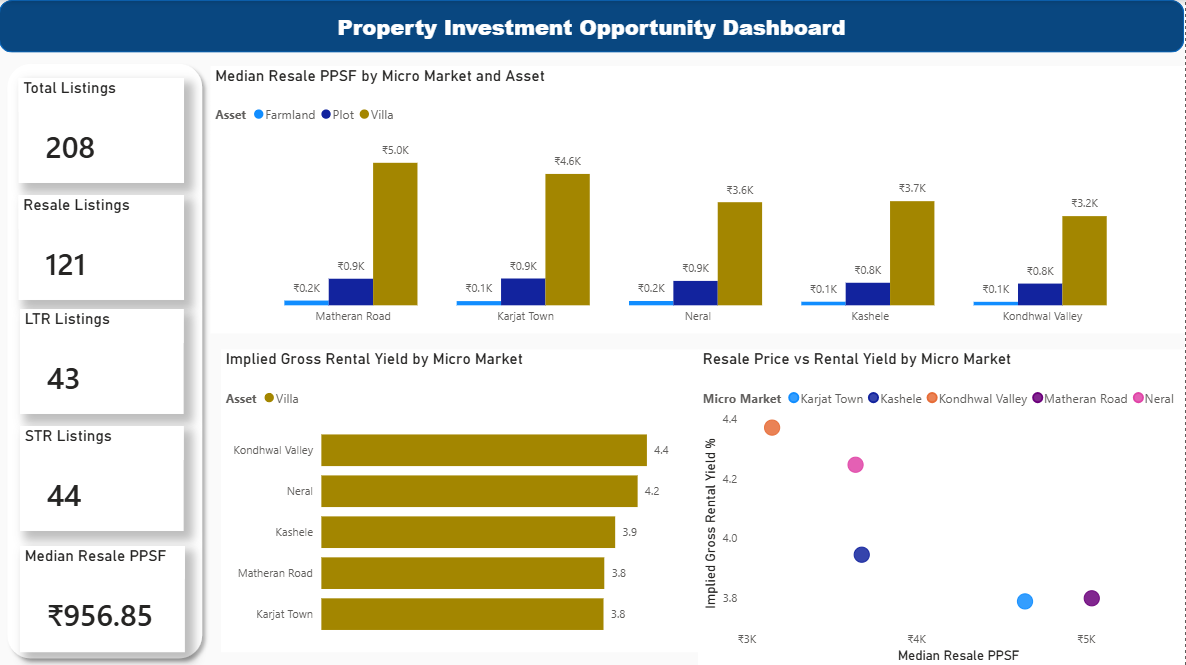

The dashboard page shown, as its layout file describes it:
{"tool":"powerbi","page":{"name":"Property Market Opportunity","canvas":[1280,720],"ordinal":0},"visuals":[{"type":"shape","box":[0,0,1279.4,56.7],"z":0},{"type":"clusteredColumnChart","title":"Median Resale PPSF by Micro Market and Asset","fields":{"Category":["MAIN.Micro Market"],"Series":["MAIN.Asset"],"Y":["Sum(MAIN.Median Resale PPSF)"]},"box":[228.3,71.7,1051.7,288.3],"z":1000},{"type":"barChart","title":"Implied Gross Rental Yield by Micro Market","fields":{"Category":["MAIN.Micro Market"],"Y":["Sum(MAIN.Implied Gross Rental Yield %)"],"Series":["MAIN.Asset"]},"box":[240,376.7,515,326.7],"z":2000},{"type":"shape","box":[0,60,228.3,660],"z":3000},{"type":"cardVisual","title":"Total Listings","fields":{"Data":["MAIN.to0tal listing"]},"box":[21.7,85,178.3,113.3],"z":4000},{"type":"cardVisual","title":" Resale Listings","fields":{"Data":["MAIN.Resale Listings"]},"box":[21.7,210,178.3,113.3],"z":5000},{"type":"cardVisual","title":" LTR Listings","fields":{"Data":["MAIN.LTR Listings"]},"box":[23.3,333.3,176.7,113.3],"z":6000},{"type":"cardVisual","title":" LTR Listings","fields":{"Data":["MAIN.STR Listings"]},"box":[23.3,460,176.7,113.3],"z":7000},{"type":"cardVisual","title":"Median Resale PPSF","fields":{"Data":["MAIN.Mmmedian Resale PPSF"]},"box":[23.3,590,176.7,113.3],"z":8000},{"type":"scatterChart","title":"Resale Price vs Rental Yield by Micro Market","fields":{"X":["MAIN.Median Resale PPSF"],"Y":["MAIN.Implied Gross Rental Yield %"],"Series":["MAIN.Micro Market"]},"box":[755,376.7,525,343.3],"z":9000}]}

Visuals, with their boxes in screenshot pixels (x1, y1, x2, y2), scaled from the page's 1280x720 canvas onto the 1186x665 screenshot:
shape: select_region(0, 0, 1185, 52)
"Median Resale PPSF by Micro Market and Asset" clusteredColumnChart: select_region(212, 66, 1185, 332)
"Implied Gross Rental Yield by Micro Market" barChart: select_region(222, 348, 700, 650)
shape: select_region(0, 55, 212, 664)
"Total Listings" cardVisual: select_region(20, 79, 185, 183)
" Resale Listings" cardVisual: select_region(20, 194, 185, 299)
" LTR Listings" cardVisual: select_region(22, 308, 185, 412)
" LTR Listings" cardVisual: select_region(22, 425, 185, 530)
"Median Resale PPSF" cardVisual: select_region(22, 545, 185, 650)
"Resale Price vs Rental Yield by Micro Market" scatterChart: select_region(700, 348, 1185, 664)
